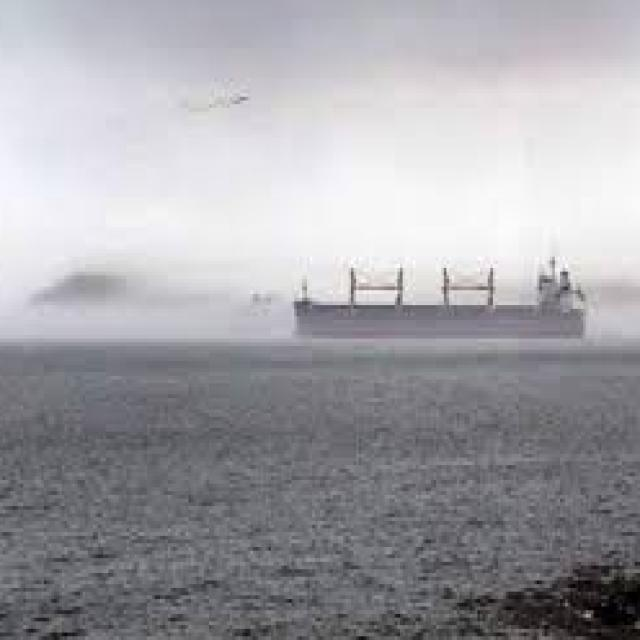cargoship: (291, 252, 594, 340)
